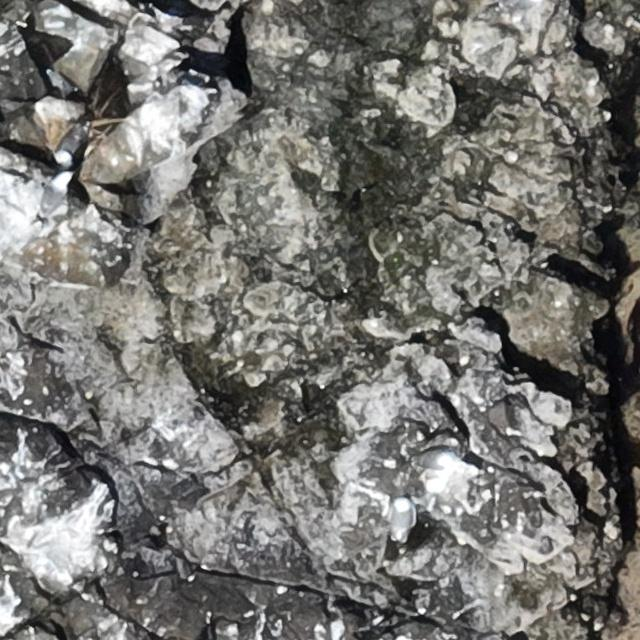umineko: (392, 499, 412, 538), (56, 128, 80, 160)
